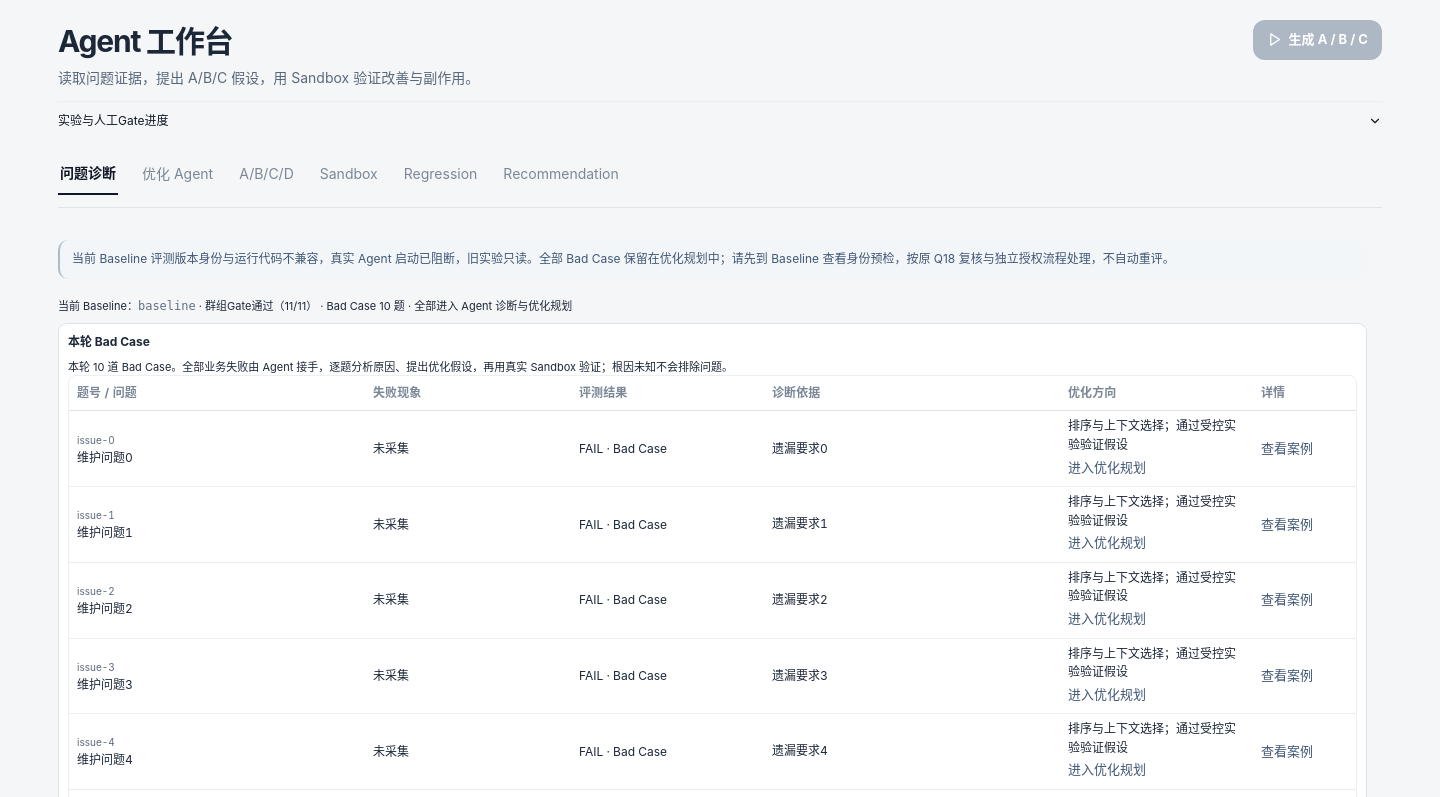
Test: retains all ten planning targets under identity block and hides technical classifications
This screenshot has width=1440, height=797.
Expected: the element with class "agent-identity" shows "Bad Case 10", [58, 297, 572, 315]
Expected: the button "生成 A / B / C" is disabled, [1253, 20, 1382, 60]
Click the button "优化 Agent" at (178, 174), box [140, 152, 215, 195]
(page scrolled)
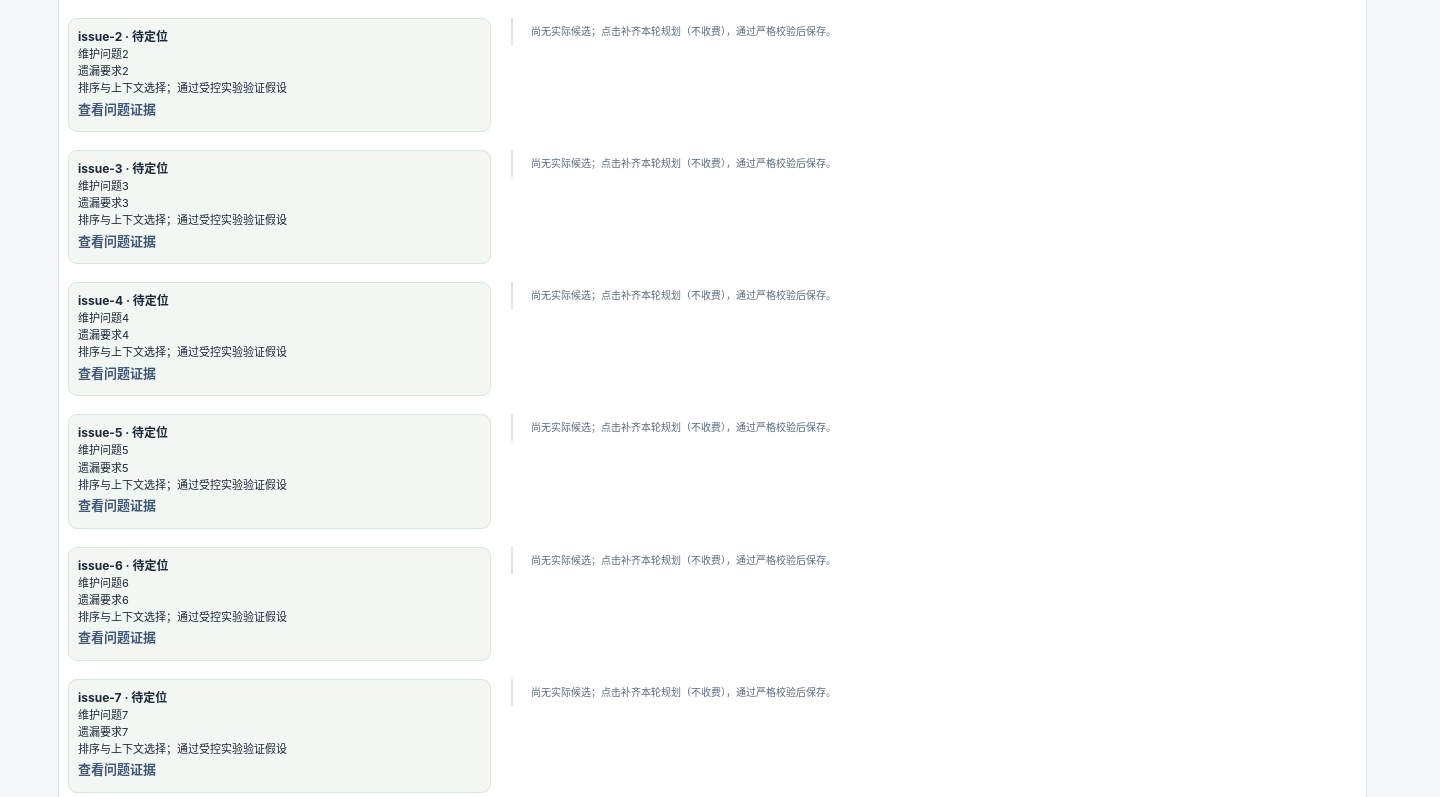
Expected: the number of elements with class "strategy-branch" is 10
